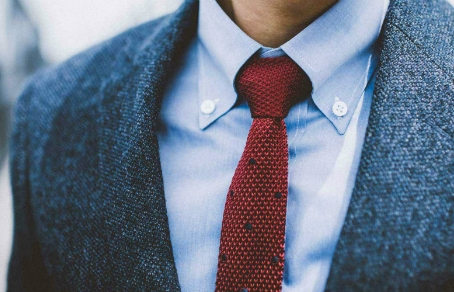tie: (208, 51, 315, 288)
